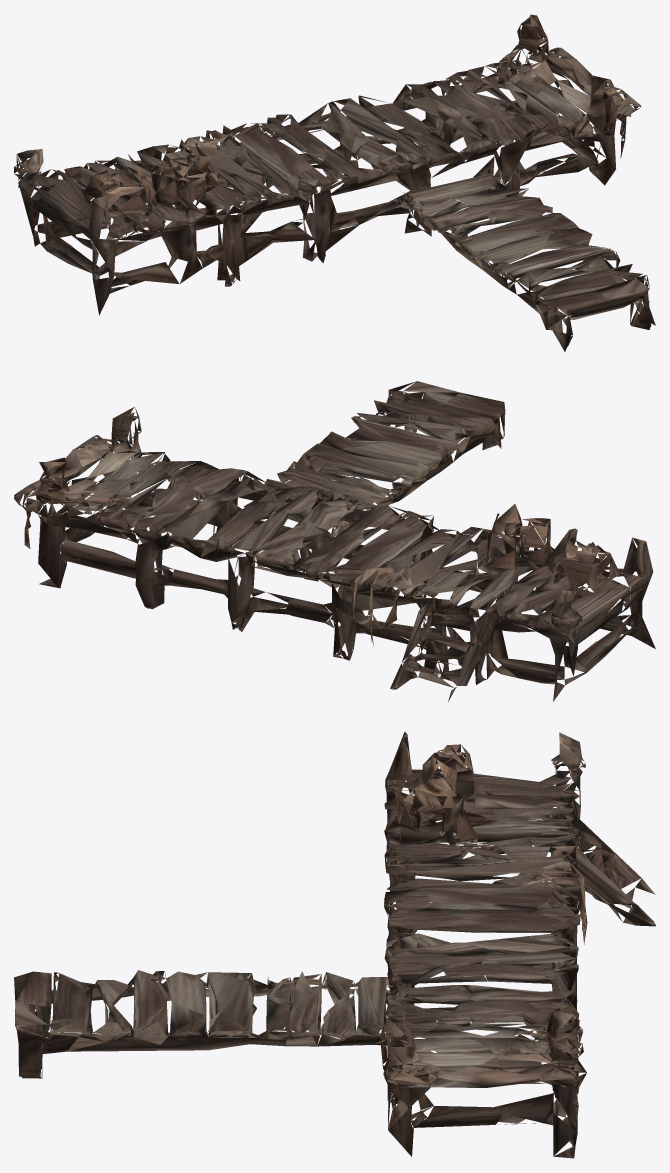
File: steg.glb
The picture shows the model from 3 angles, top to bottom: view 1: azimuth 30°, elevation 25°; view 2: azimuth 150°, elevation 25°; view 3: azimuth 270°, elevation 25°; orthographic projection. The views are drawn at different scales.
Size of the model in its own units: 1.89 by 0.4135 by 1.64.
Materials: 1 (1 with a texture image).
